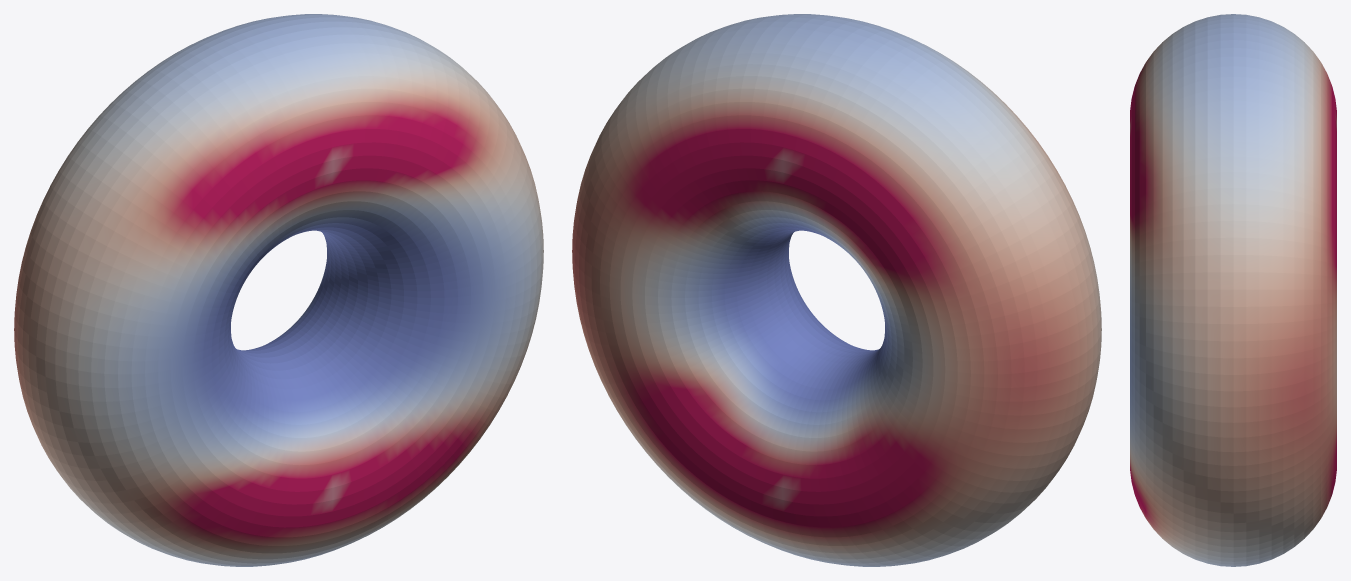
3 views of the same model, side by side, from view 1: azimuth 30°, elevation 25°; view 2: azimuth 150°, elevation 25°; view 3: azimuth 270°, elevation 25° (orthographic). The views are drawn at different scales.
Visible parts, largest first — view 1: world; view 2: world; view 3: world.
Boxes of the visible parts, x1,y1,x2,y2 form: world: (14, 14, 543, 566); world: (572, 14, 1101, 566); world: (1130, 14, 1336, 566).
Bounding box in the file's own units: 20.27 × 20.27 × 7.59.
